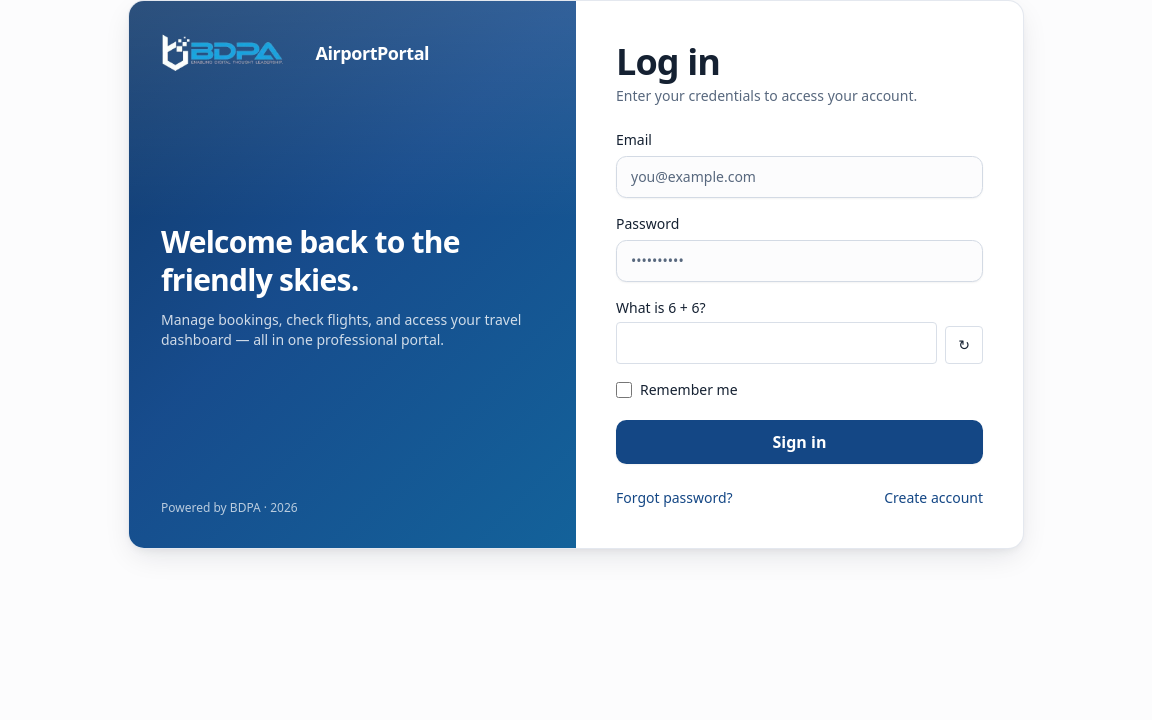
Test: Login Page › Validation › displays error when captcha is incorrect
Type "test@example.com" into the field labelled "Email".
click(800, 177); type("test@example.com")  # box [616,156,983,198]
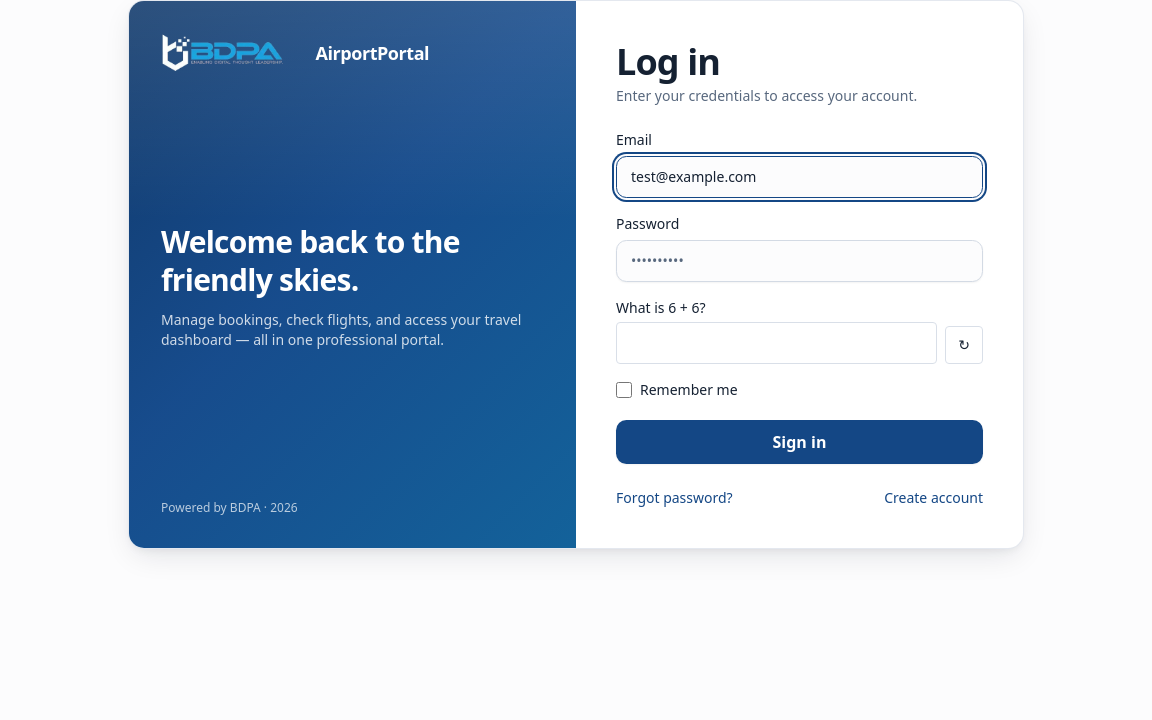
Type "password123" into the password field labelled "Password".
click(800, 261); type("password123")  # box [616,240,983,282]
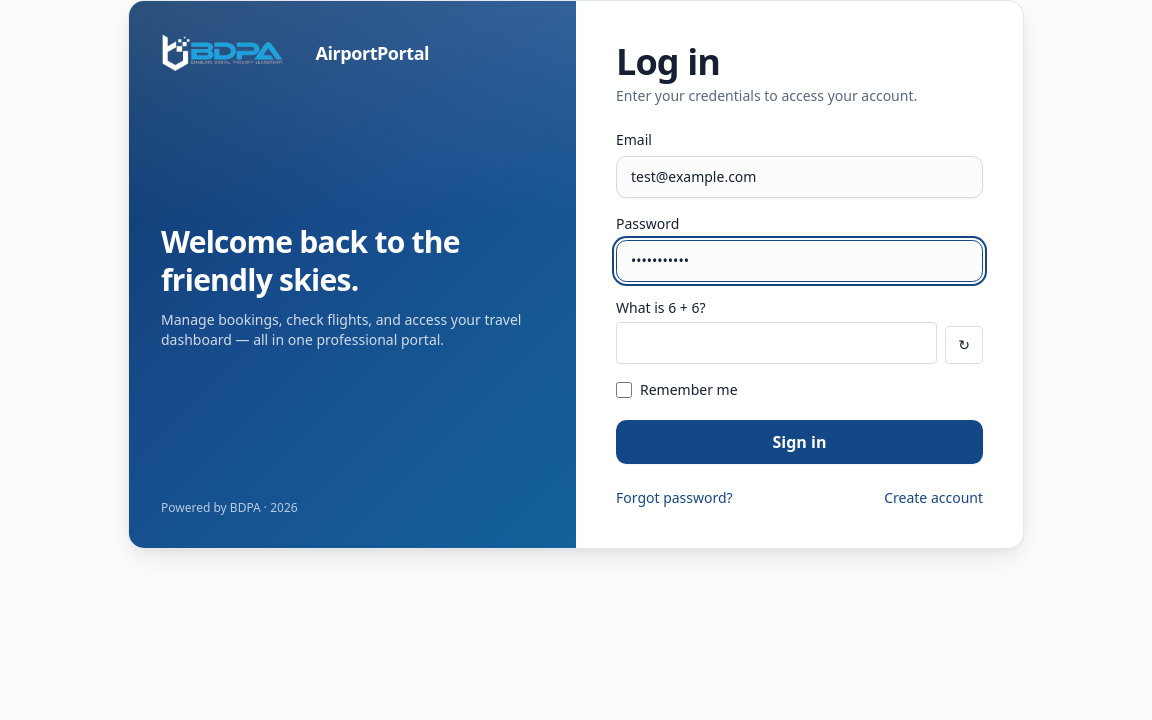
Type "0" into the 2nd field.
click(777, 343); type("0")  # box [616,322,937,364]
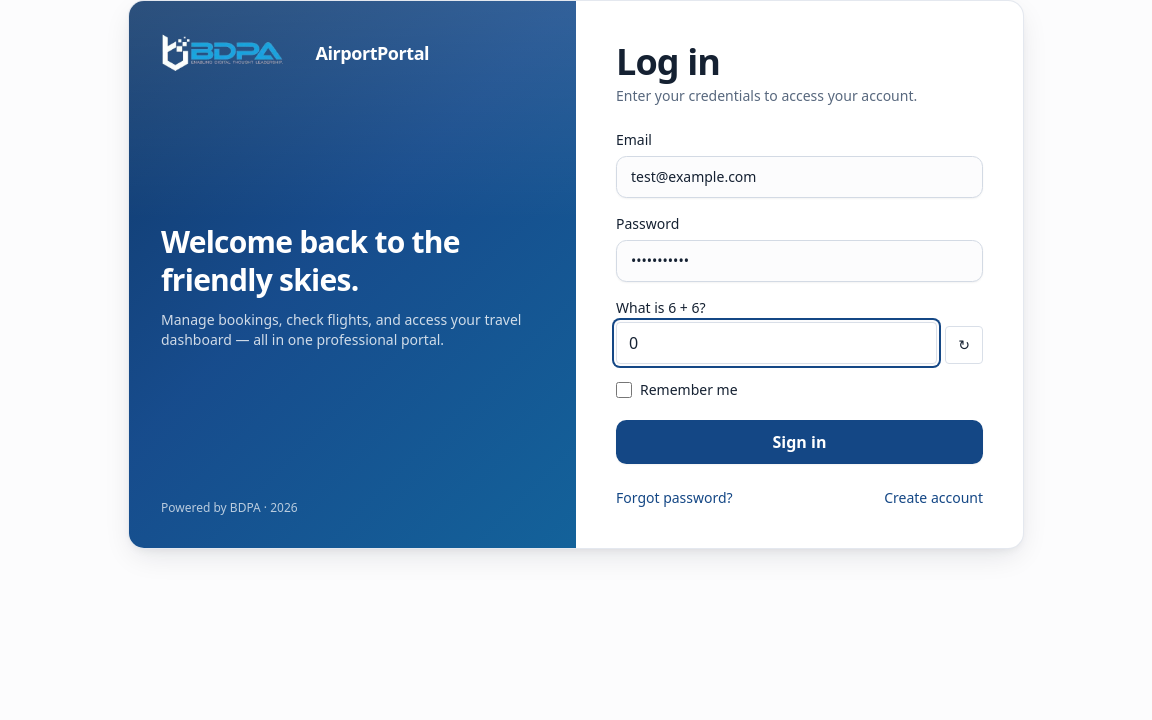
Click the button "Sign in".
click(800, 442)  # box [616,420,983,464]
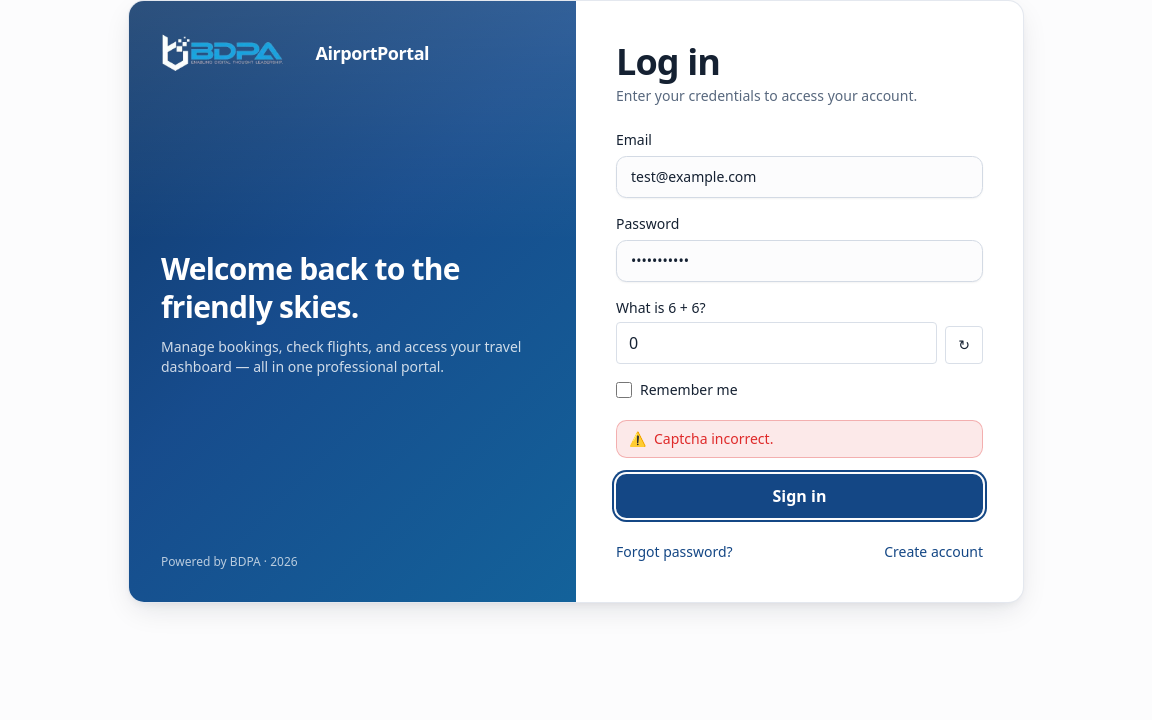
Result: the message shows "Captcha incorrect" at [654,429,773,448]
